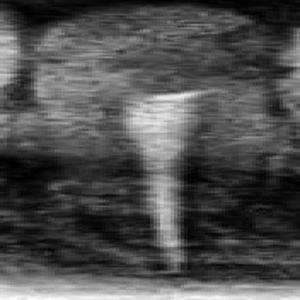tooth: (32, 10, 283, 281)
